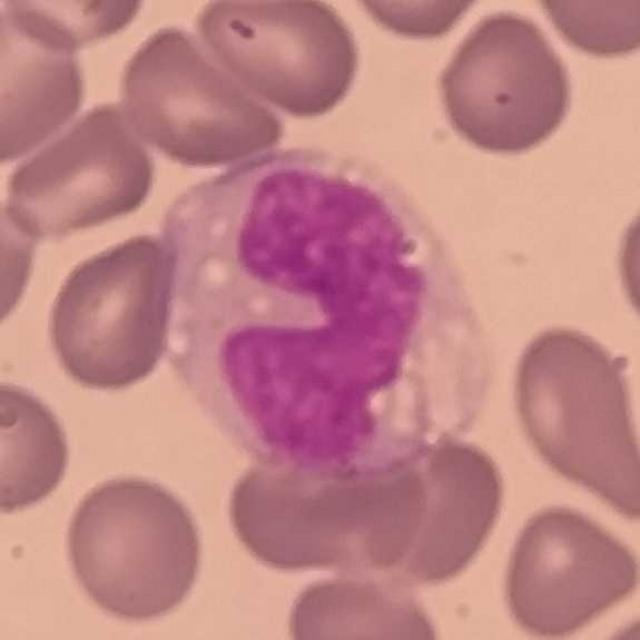Monocyte: (154, 156, 494, 490)
RBC: (212, 276, 440, 473), (219, 429, 435, 582), (503, 318, 640, 526), (112, 17, 290, 171), (357, 427, 512, 591), (60, 467, 212, 629), (40, 226, 183, 397), (0, 97, 160, 245), (431, 6, 579, 160), (189, 0, 366, 120), (496, 500, 640, 640), (0, 3, 92, 167), (280, 567, 449, 640), (0, 374, 77, 520), (0, 0, 154, 52), (0, 171, 46, 343), (527, 0, 638, 62), (339, 0, 493, 43), (609, 180, 640, 348), (573, 600, 639, 640)
